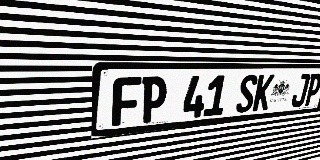1: (203, 75, 228, 117)
4: (182, 76, 208, 119)
F: (112, 77, 142, 126)
J: (290, 74, 311, 107)
K: (252, 74, 275, 112)
P: (139, 76, 168, 123), (303, 73, 320, 106)
S: (235, 75, 259, 113)
